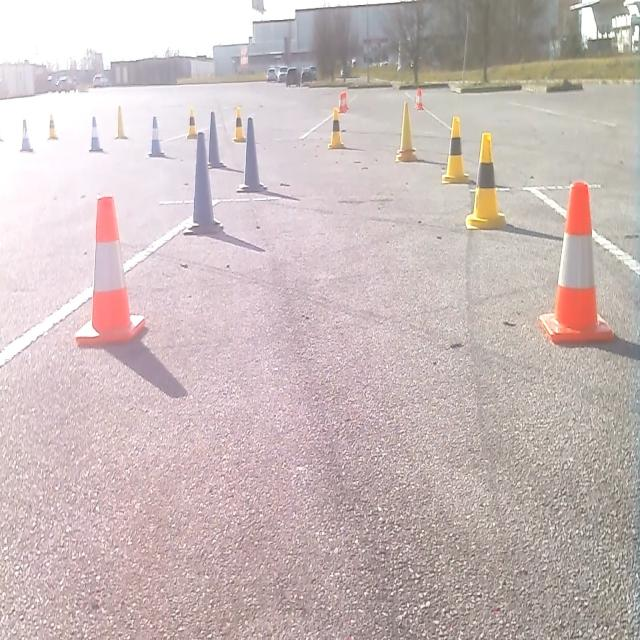blue_cone: (184, 129, 223, 234), (236, 114, 266, 194), (205, 112, 225, 170), (147, 113, 165, 158), (88, 116, 104, 153), (19, 117, 33, 152)
orange_cone: (538, 178, 614, 347), (74, 192, 147, 348)
yellow_cone: (464, 129, 506, 231), (441, 114, 469, 184), (394, 99, 418, 163), (327, 105, 345, 150), (232, 103, 246, 143), (113, 104, 128, 140), (186, 105, 198, 139), (47, 111, 58, 140)
